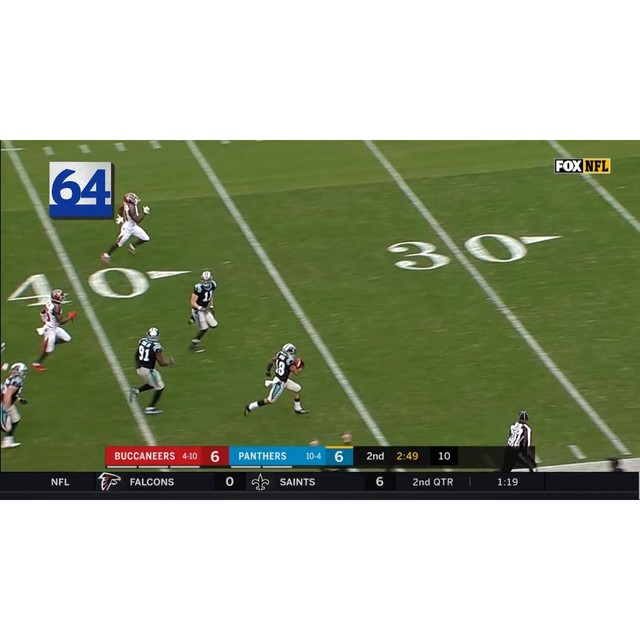american-football-player: (245, 344, 306, 419), (126, 328, 175, 414), (30, 287, 76, 370), (101, 193, 149, 263), (186, 271, 221, 352), (0, 364, 32, 450)
referee: (498, 410, 540, 474)
